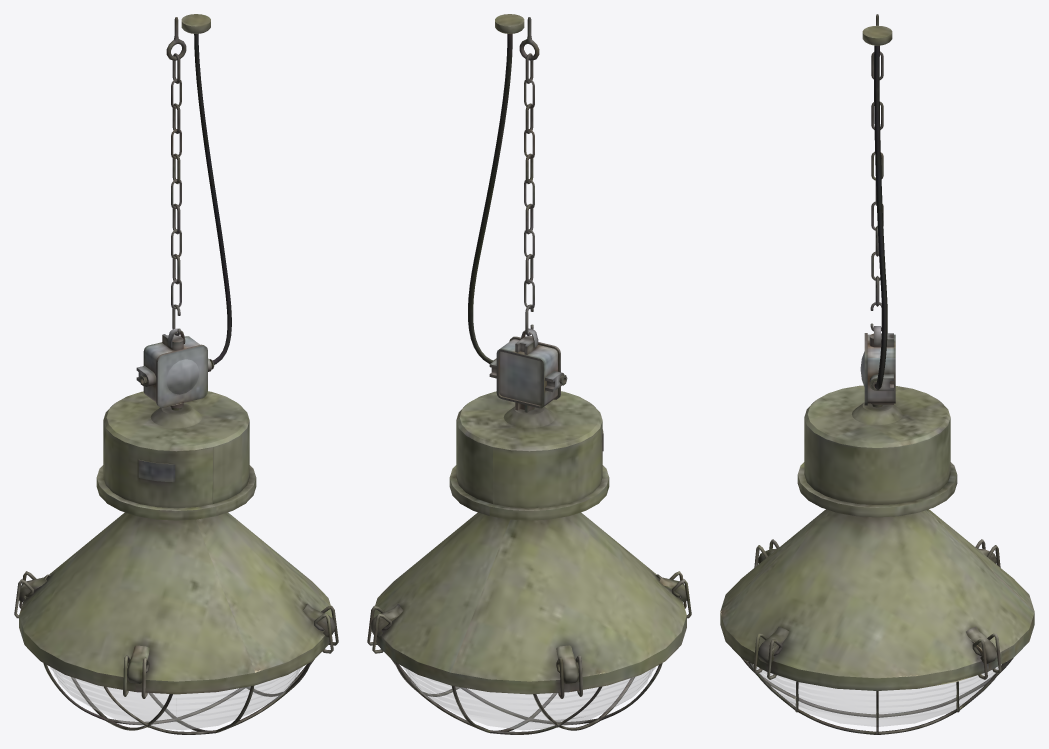
The model's file is hanging_industrial_lamp.gltf.
The picture shows the model from 3 angles, left to right: view 1: azimuth 30°, elevation 25°; view 2: azimuth 150°, elevation 25°; view 3: azimuth 270°, elevation 25°; orthographic projection.
Visible parts, largest first — view 1: hanging_industrial_lamp; view 2: hanging_industrial_lamp; view 3: hanging_industrial_lamp.
Part boxes in pixels (x1,y1,x2,y2): hanging_industrial_lamp: [14, 14, 338, 734]; hanging_industrial_lamp: [367, 14, 691, 734]; hanging_industrial_lamp: [720, 14, 1034, 734].
Size of the model in its own units: 0.5496 by 1.36 by 0.5496.
2 materials, 1 textured.
